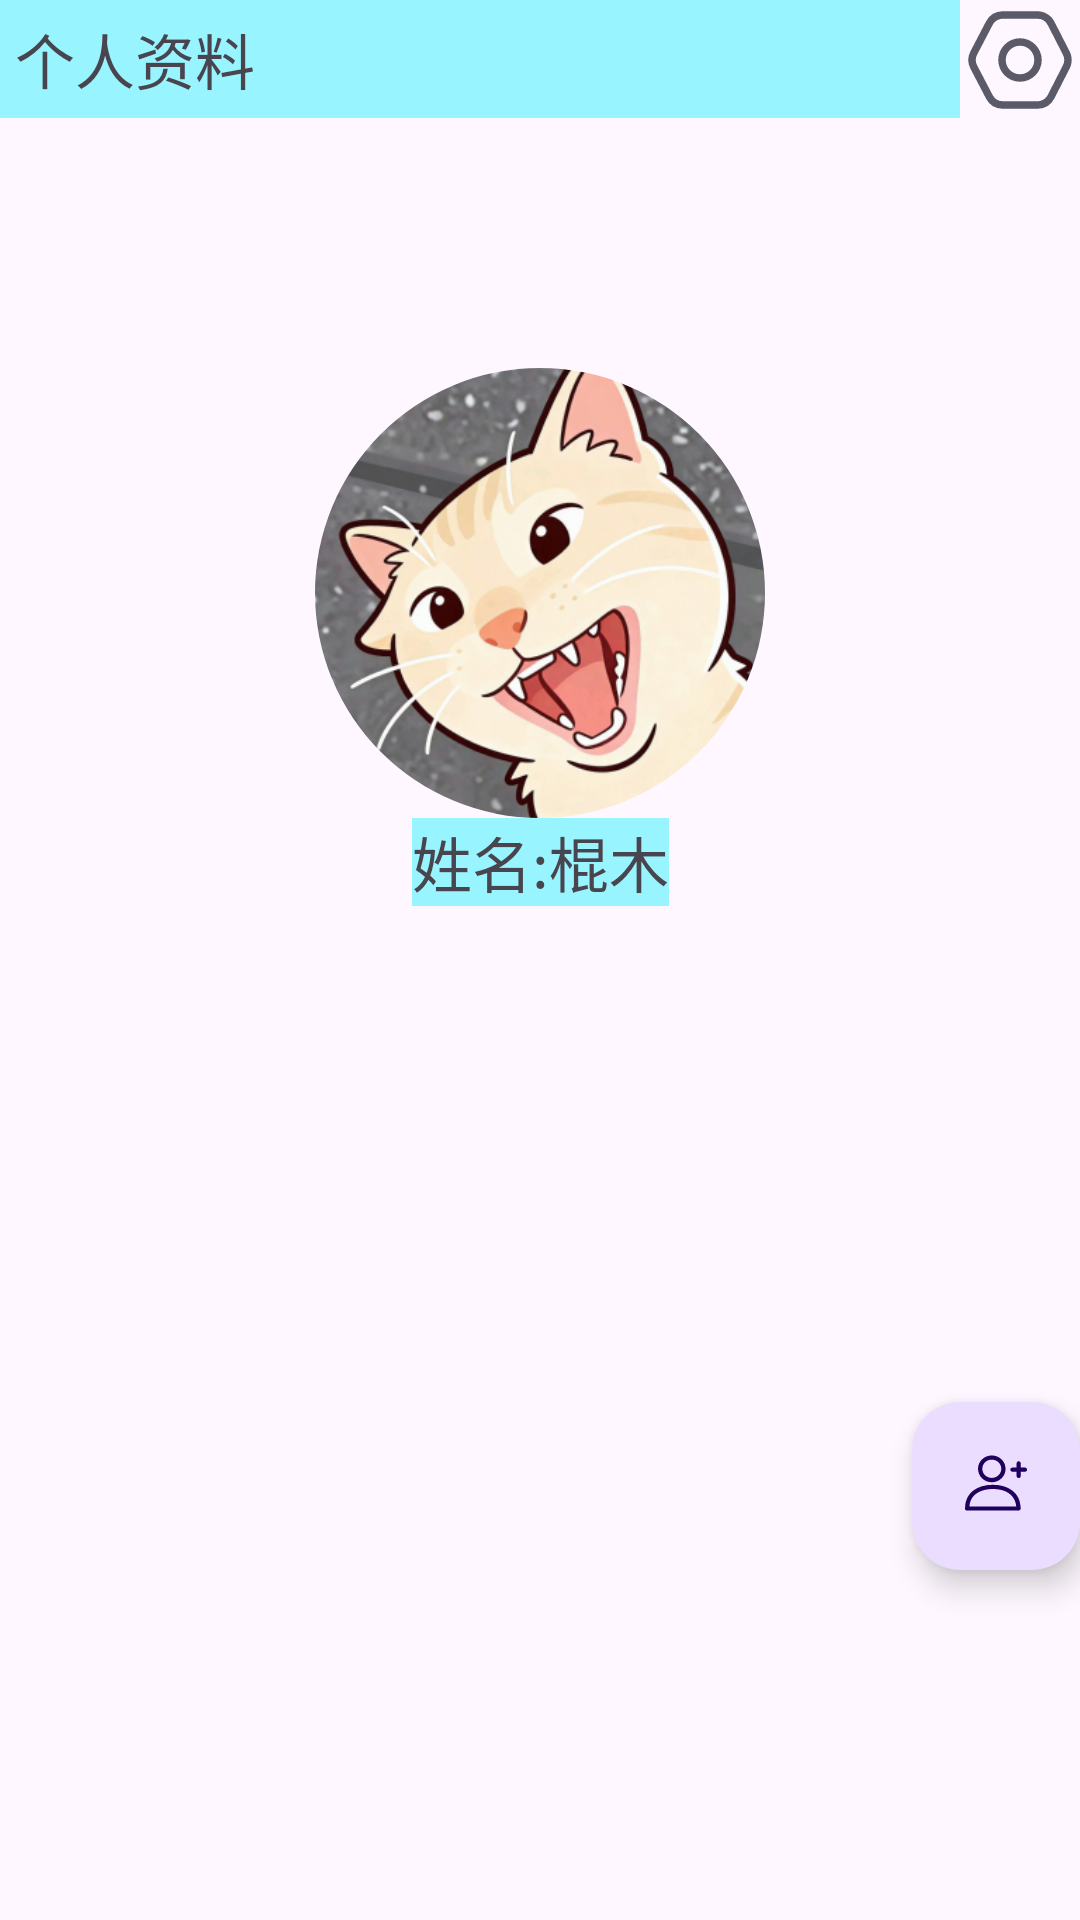

Screen size 1080w x 1920h. Icon name, then its center in pixels as (x,y):
option: (1020,60)
register iv: (996,1486)
